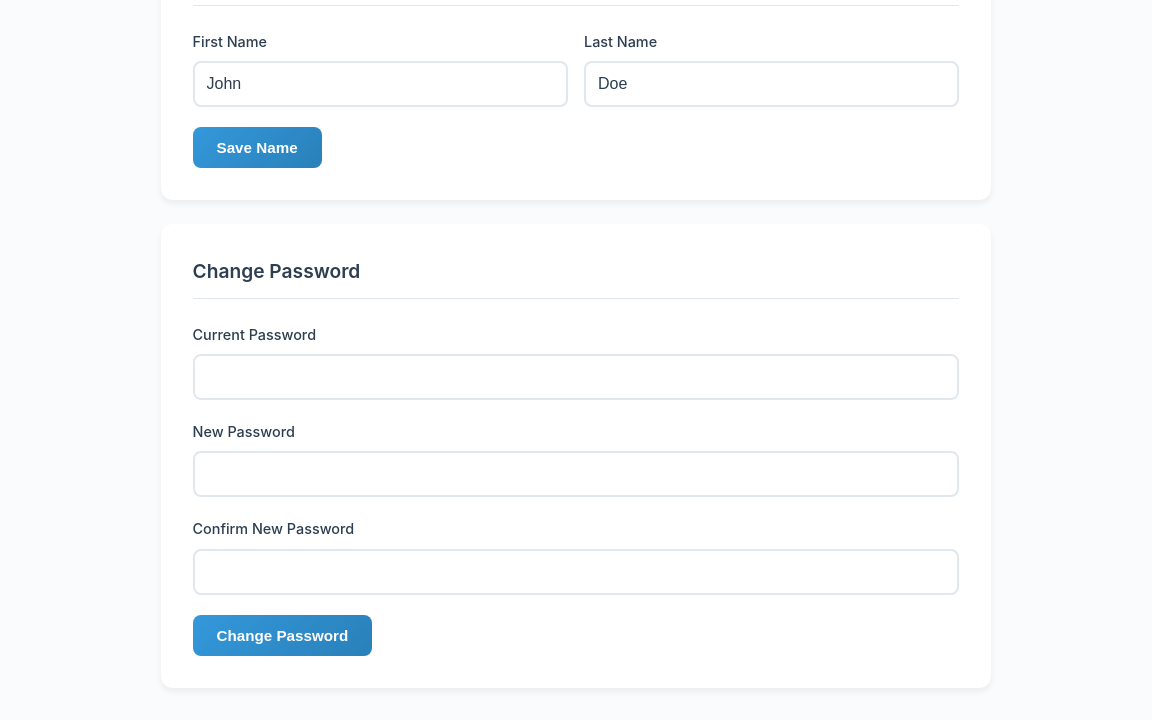
UserProfile › Change Password form › changes password successfully
(page scrolled)
Type "OldPass1!" into the password field labelled "Current Password" at (576, 377), box [192,354,959,400]
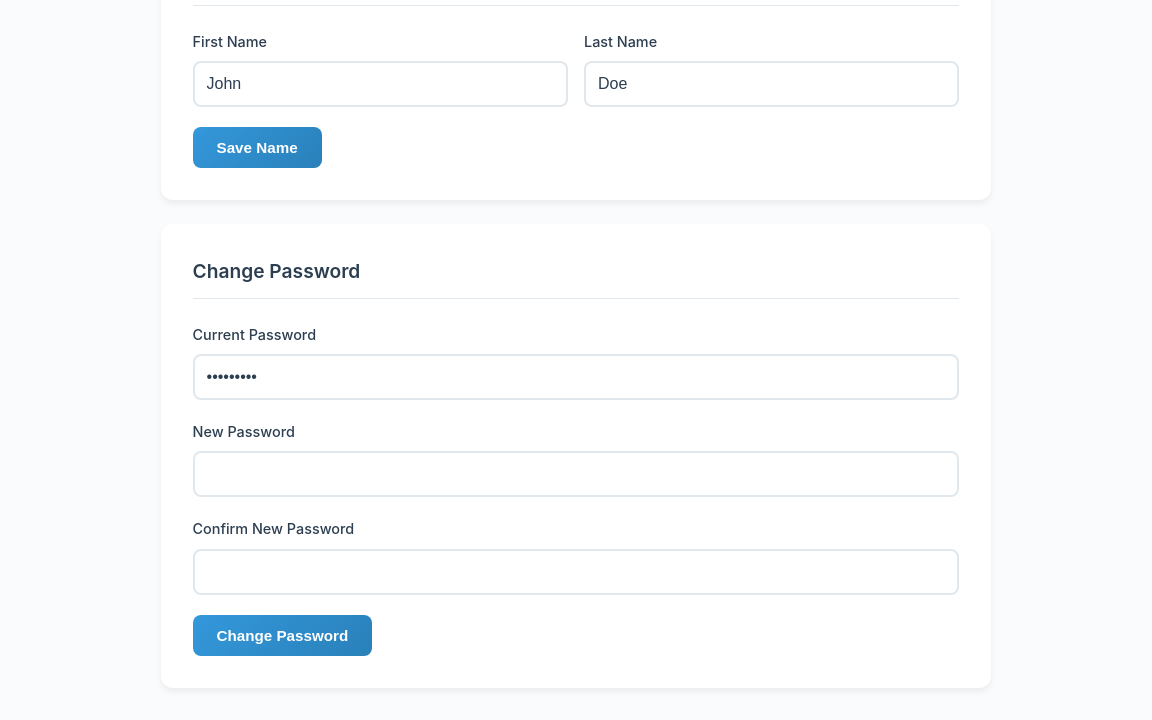
Type "NewPass1!" into the password field labelled "New Password" at (576, 474), box [192,452,959,498]
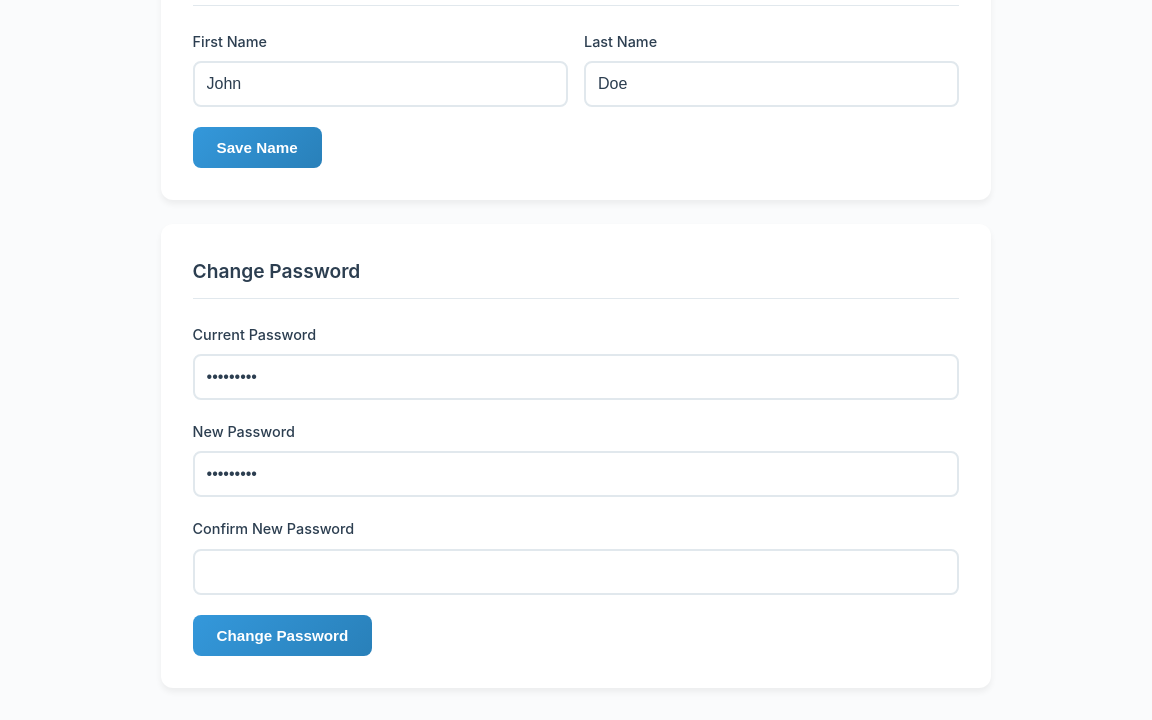
Type "NewPass1!" into the password field labelled "Confirm New Password" at (576, 572), box [192,548,959,594]
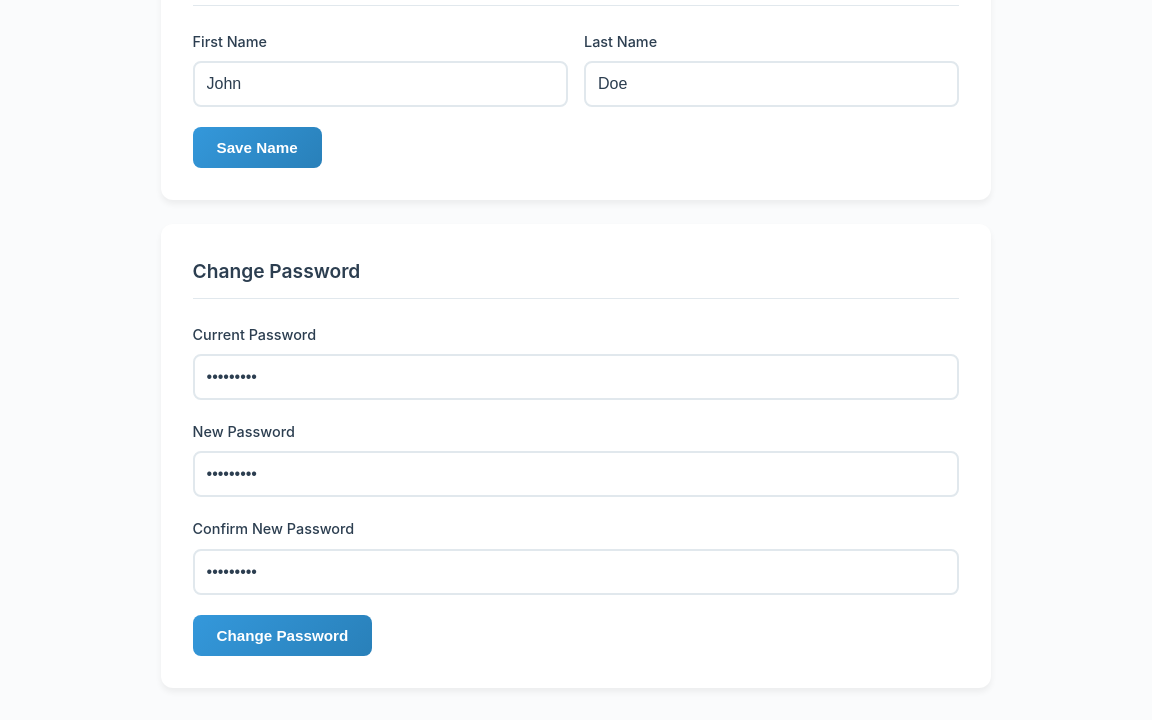
Click the button "Change Password" at (282, 635), box [192,614,372,656]
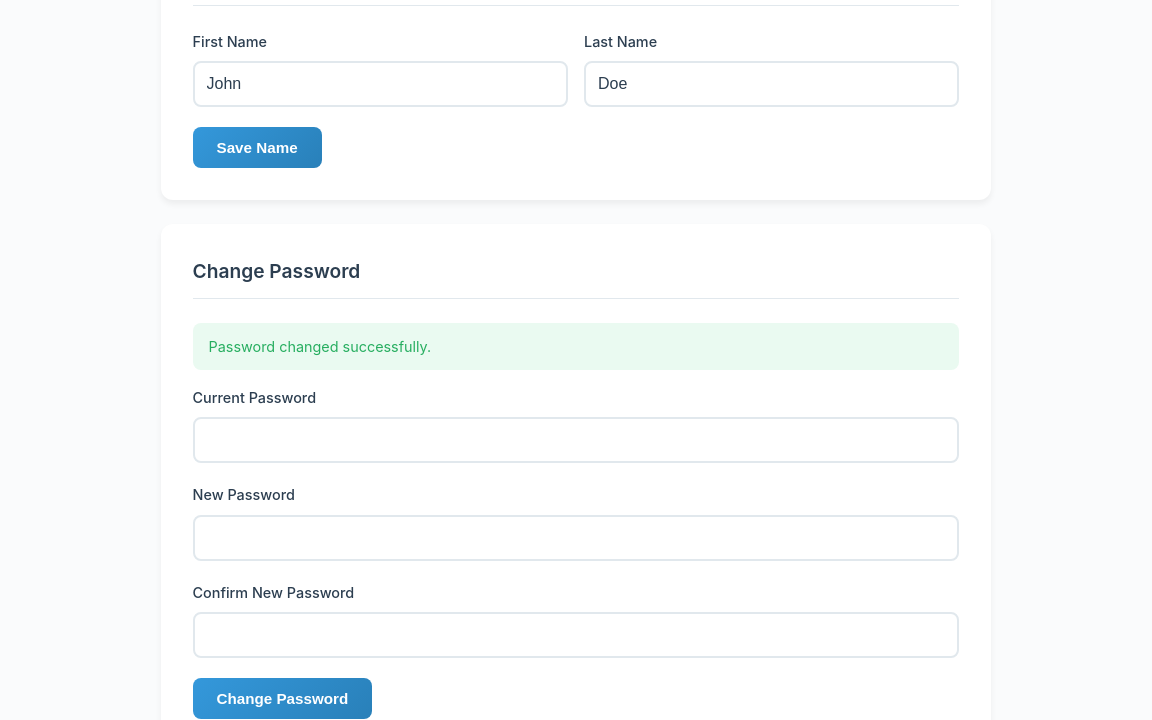
Check: the text "Password changed successfully." is shown, box [192,323,959,370]
